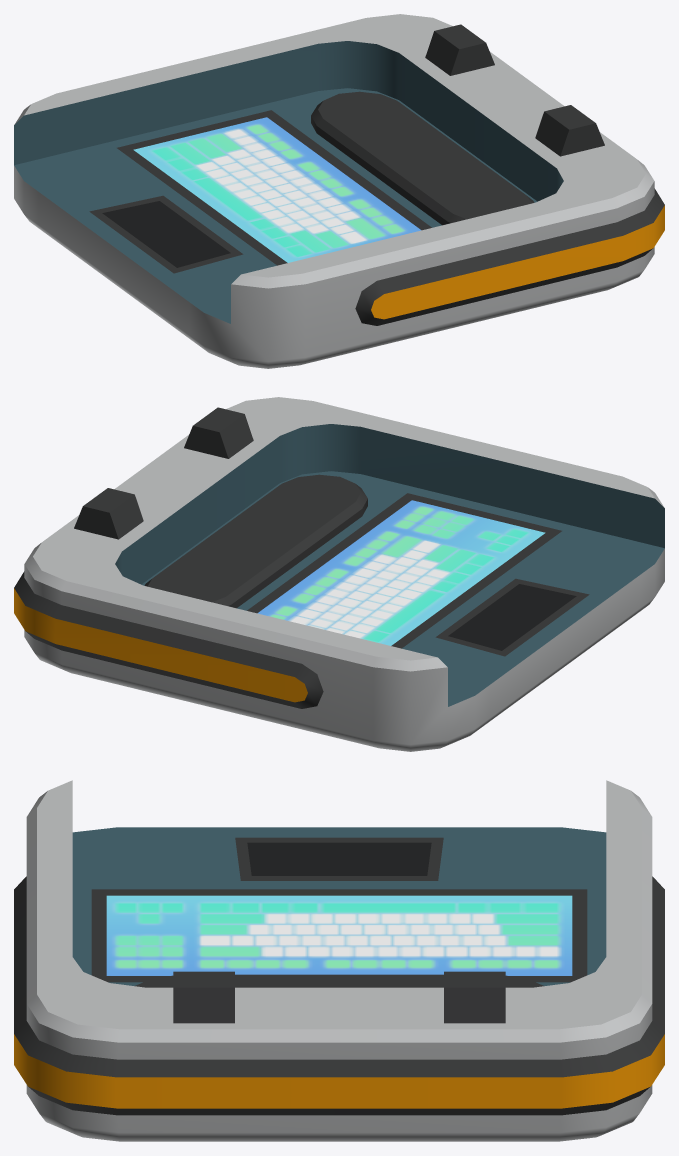
Rendered from Laptop_002.fbx.
3 renders of one model, top to bottom at view 1: azimuth 30°, elevation 25°; view 2: azimuth 150°, elevation 25°; view 3: azimuth 270°, elevation 25°, orthographic. The views are drawn at different scales.
Parts seen in each view (by area): view 1: Laptop_002; view 2: Laptop_002; view 3: Laptop_002.
Part boxes in pixels (x1=…): Laptop_002: x1=14, y1=14, x2=664, y2=368; Laptop_002: x1=14, y1=397, x2=664, y2=751; Laptop_002: x1=14, y1=780, x2=664, y2=1141.
Bounding box in the file's own units: 31.8 × 32.42 × 8.05.
